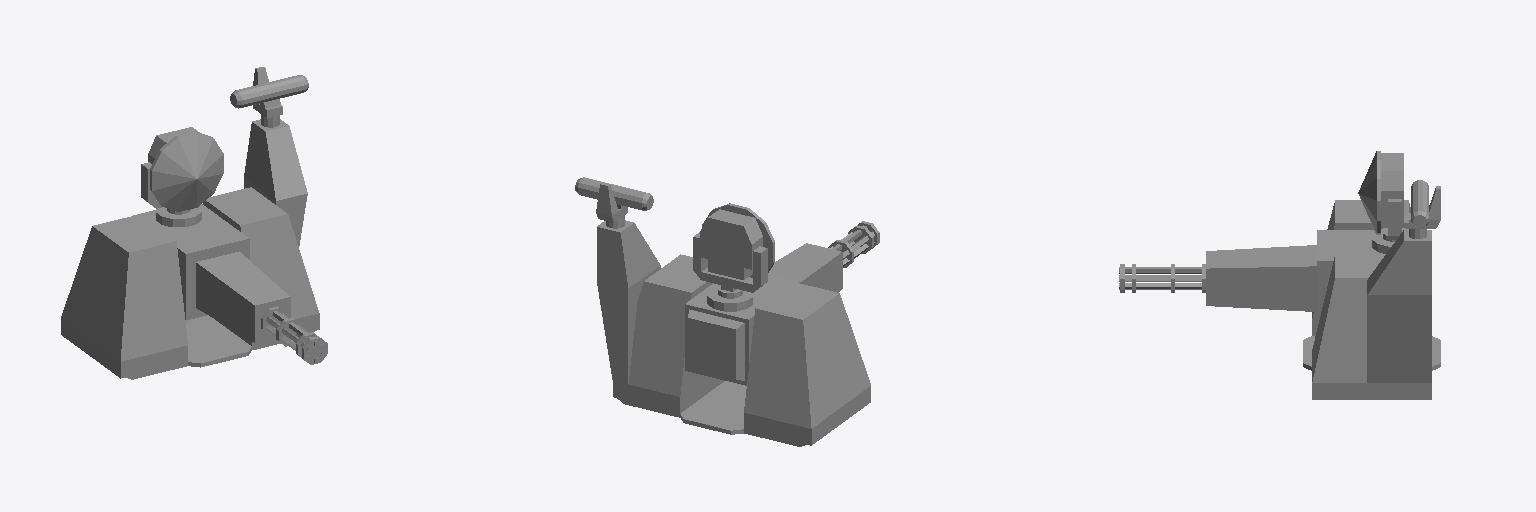
File: lmg.obj
3 views of the same model, side by side, from view 1: azimuth 30°, elevation 25°; view 2: azimuth 150°, elevation 25°; view 3: azimuth 270°, elevation 25° (orthographic).
Parts seen in each view (by area): view 1: rotatron, aimer, dish, scanner, barrel; view 2: rotatron, aimer, dish, scanner, dish_base, barrel; view 3: rotatron, aimer, dish, barrel, scanner, dish_base.
Part boxes in pixels (bbox=[...]): rotatron: bbox=[61, 119, 319, 379]; aimer: bbox=[133, 204, 290, 342]; dish: bbox=[148, 127, 223, 211]; scanner: bbox=[230, 67, 308, 127]; barrel: bbox=[261, 306, 327, 364]; rotatron: bbox=[597, 220, 870, 446]; aimer: bbox=[685, 243, 842, 385]; dish: bbox=[700, 203, 774, 279]; scanner: bbox=[575, 177, 653, 228]; dish_base: bbox=[693, 232, 767, 298]; barrel: bbox=[828, 221, 879, 267]; rotatron: bbox=[1303, 200, 1440, 399]; aimer: bbox=[1206, 228, 1408, 326]; dish: bbox=[1358, 151, 1403, 234]; barrel: bbox=[1119, 264, 1205, 292]; scanner: bbox=[1409, 180, 1440, 238]; dish_base: bbox=[1383, 199, 1405, 241].
Size of the model in its own units: 3.75 by 3.28 by 4.38.